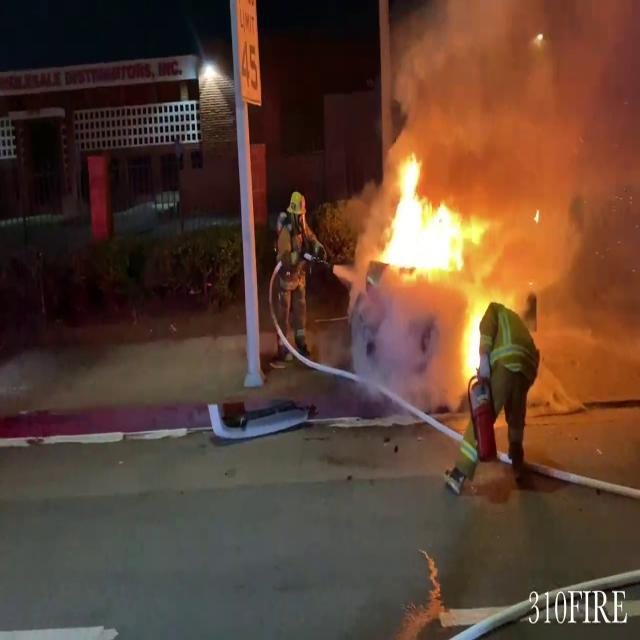Fire: (372, 148, 476, 284), (458, 292, 489, 382)
Smoke: (382, 2, 640, 195)
